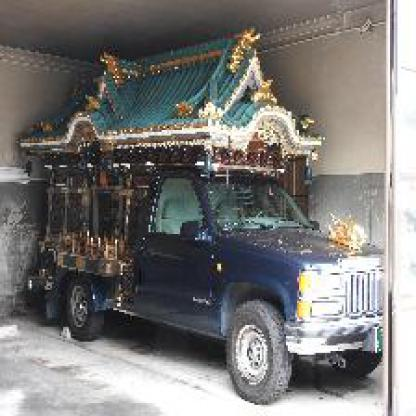not_emergency: (13, 58, 396, 410)
